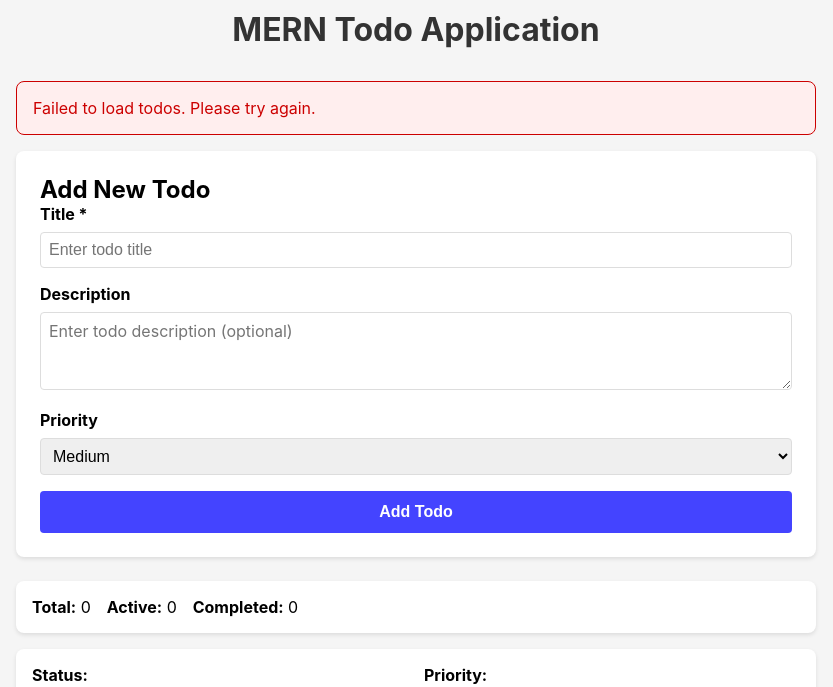
Test: Todo Application E2E Tests › shows validation error for empty title
What coordinates should you click on to do the following:
click the button with test id "submit-button"
I would click on:
 (416, 512)
Its box is left=40, top=491, right=792, bottom=533.
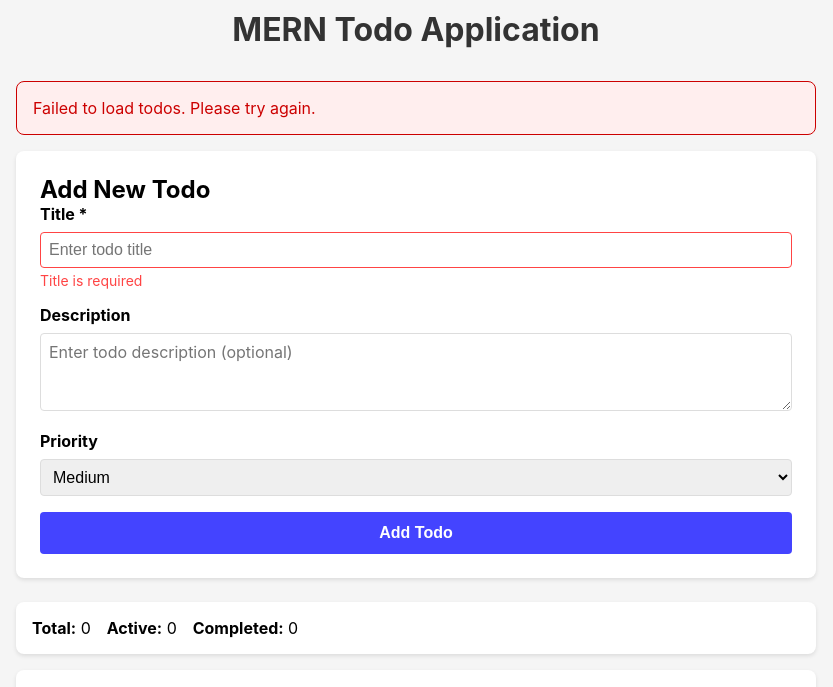
expect the text with test id "title-error" reads "Title is required": met, box left=40, top=272, right=142, bottom=289
